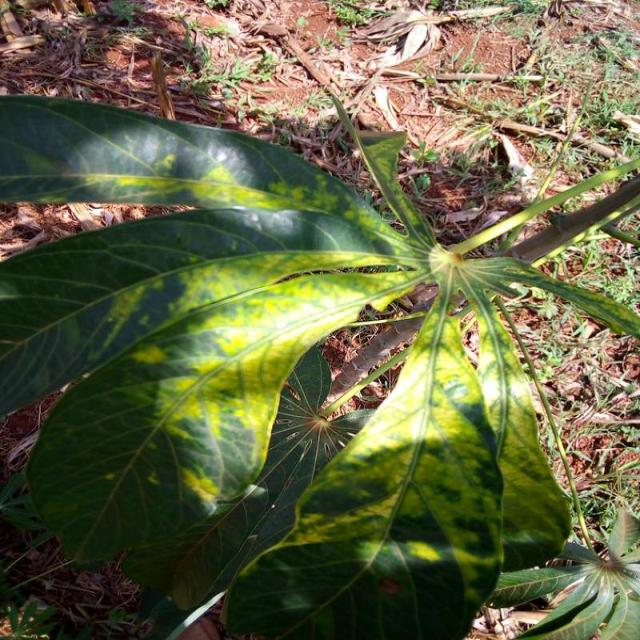Mosaico: (124, 136, 636, 602)
